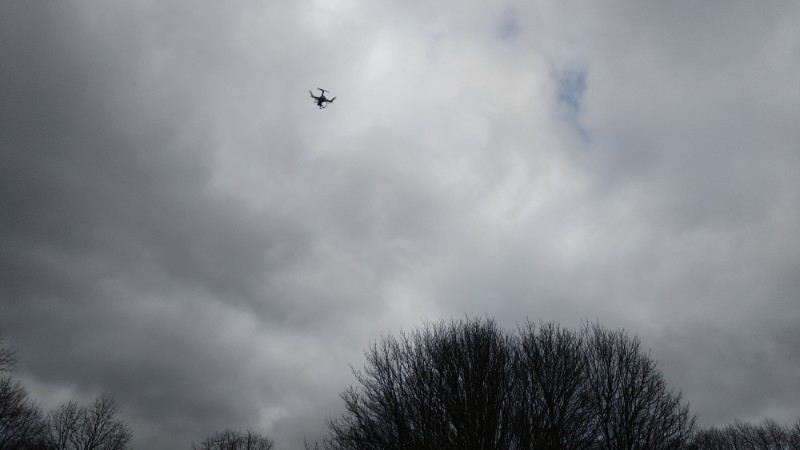drone: (309, 88, 336, 111)
